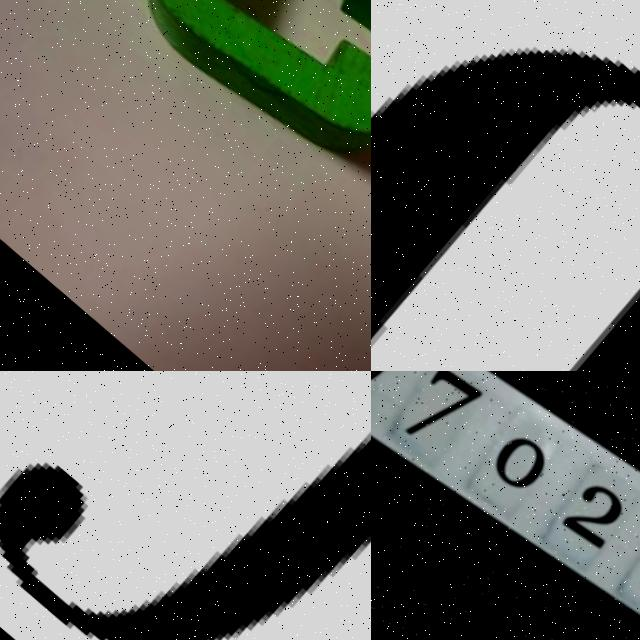0: (450, 396, 580, 527)
2: (521, 445, 640, 581)
7: (371, 371, 509, 479)
9: (604, 504, 640, 624), (371, 371, 429, 423)
C: (77, 0, 371, 208)
J: (0, 371, 371, 640)
O: (371, 53, 640, 371)
